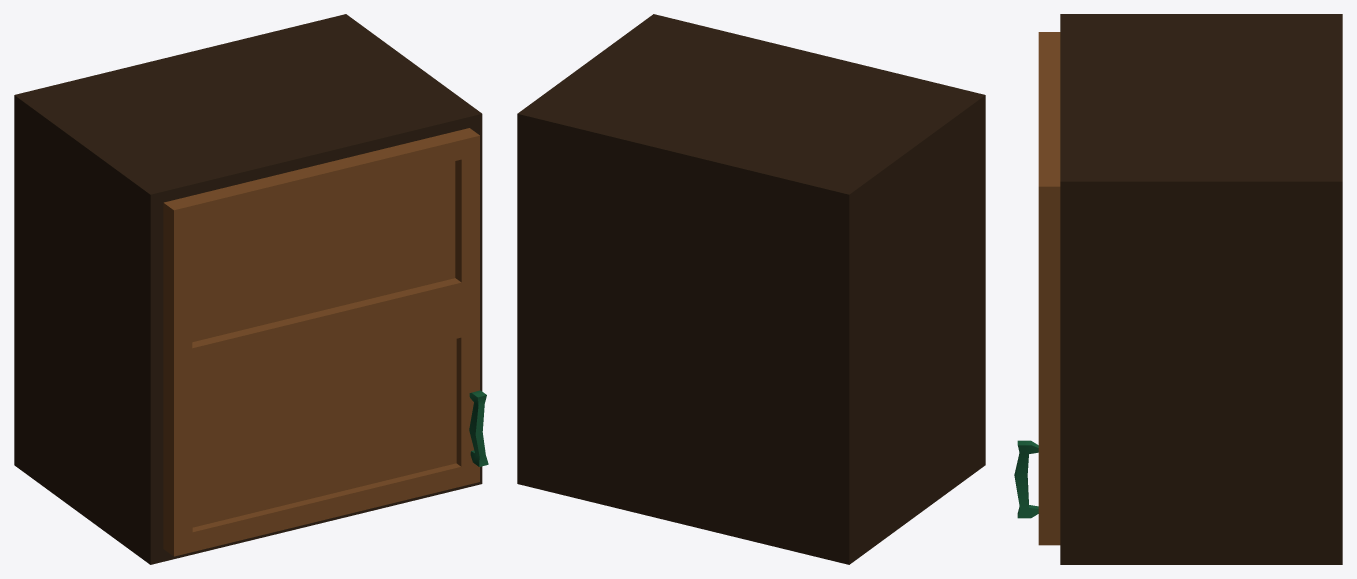
File: cupboard_1_painted.fbx
3 renders of one model, left to right at view 1: azimuth 30°, elevation 25°; view 2: azimuth 150°, elevation 25°; view 3: azimuth 270°, elevation 25°, orthographic. The views are drawn at different scales.
Visible parts, largest first — view 1: cupboard_door1_low, cupboard_base_low, polySurface7; view 2: cupboard_base_low; view 3: cupboard_base_low, cupboard_door1_low, polySurface7.
Part boxes in pixels (<box>): cupboard_door1_low: <box>163,128,479,556</box>; cupboard_base_low: <box>14,14,482,564</box>; polySurface7: <box>469,390,488,466</box>; cupboard_base_low: <box>517,14,985,564</box>; cupboard_base_low: <box>1060,14,1342,564</box>; cupboard_door1_low: <box>1038,32,1060,545</box>; polySurface7: <box>1014,440,1038,518</box>.
Size of the model in its own units: 5.9 by 6.29 by 4.88.
